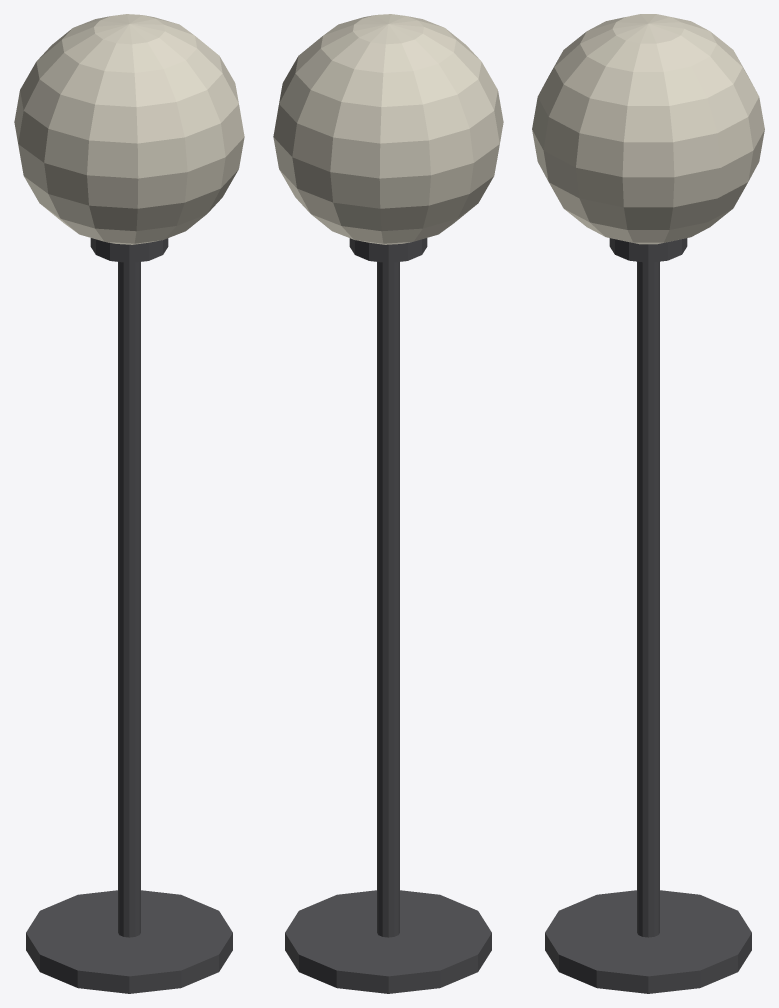
File: ilu_piso_bola.glb
The picture shows the model from 3 angles, left to right: view 1: azimuth 30°, elevation 25°; view 2: azimuth 150°, elevation 25°; view 3: azimuth 270°, elevation 25°; orthographic projection.
Visible parts, largest first — view 1: ILU_Piso_Bola_v01; view 2: ILU_Piso_Bola_v01; view 3: ILU_Piso_Bola_v01.
Part boxes in pixels (x1,y1,x2,y2): ILU_Piso_Bola_v01: [14, 14, 244, 993]; ILU_Piso_Bola_v01: [273, 14, 503, 993]; ILU_Piso_Bola_v01: [532, 14, 764, 993].
Bounding box in the file's own units: 0.351 × 1.58 × 0.36.
